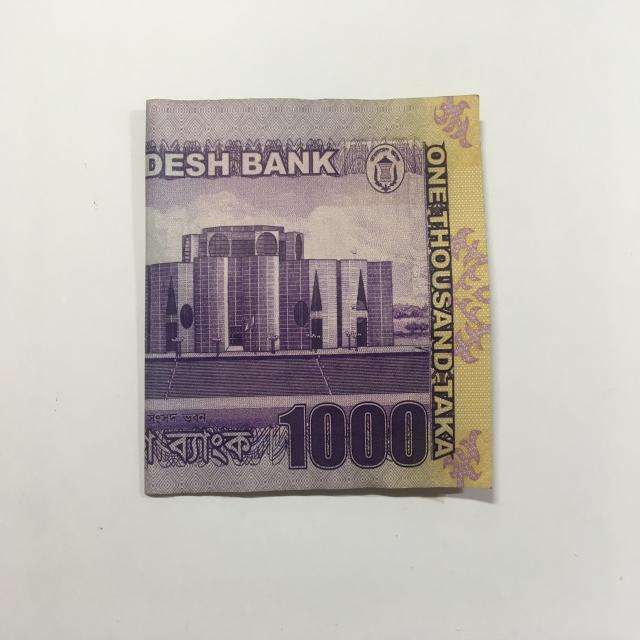Taka: (141, 87, 496, 509)
